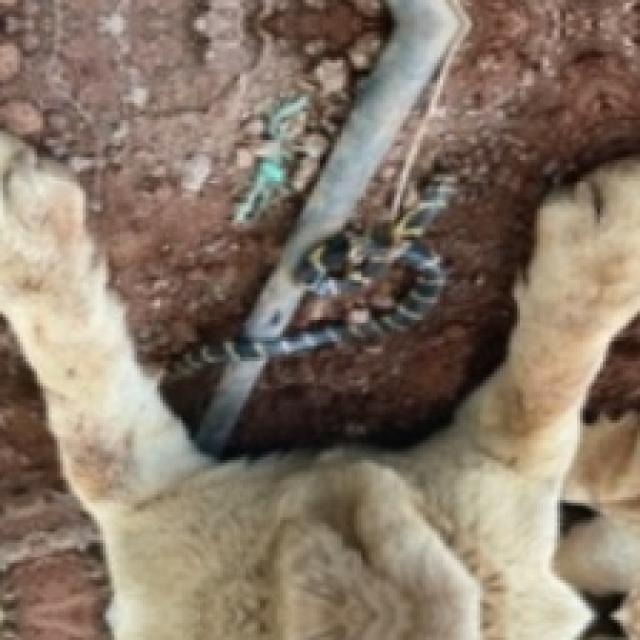king cobra: (0, 0, 637, 637), (266, 0, 637, 429)
